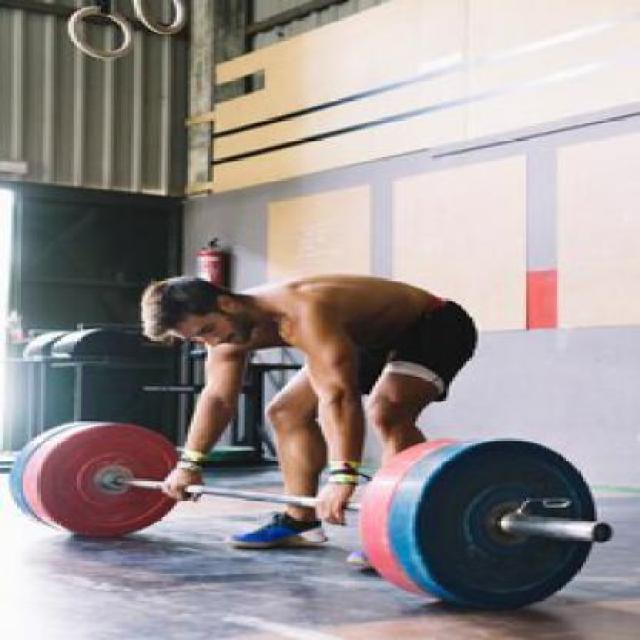barbell: (408, 434, 631, 618)
